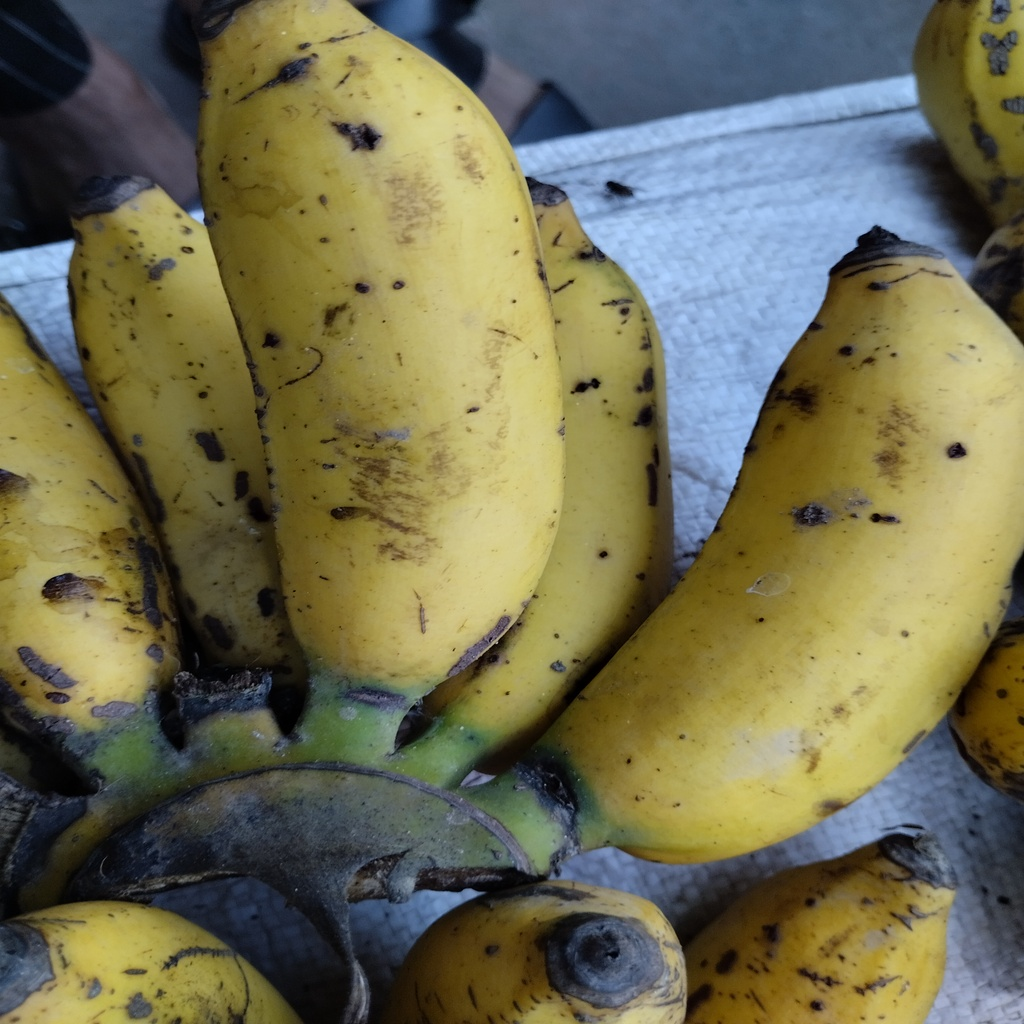unhealthy: (556, 243, 1018, 861), (196, 11, 568, 722)
